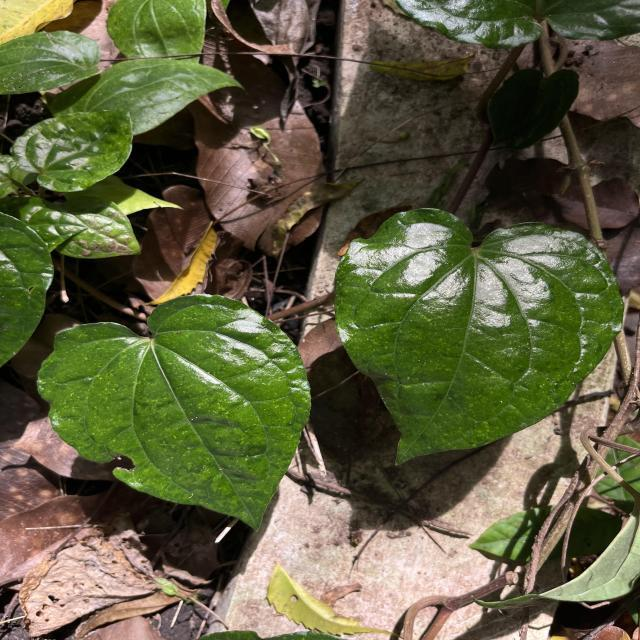Piper betle: (331, 205, 627, 469), (33, 292, 314, 536)
